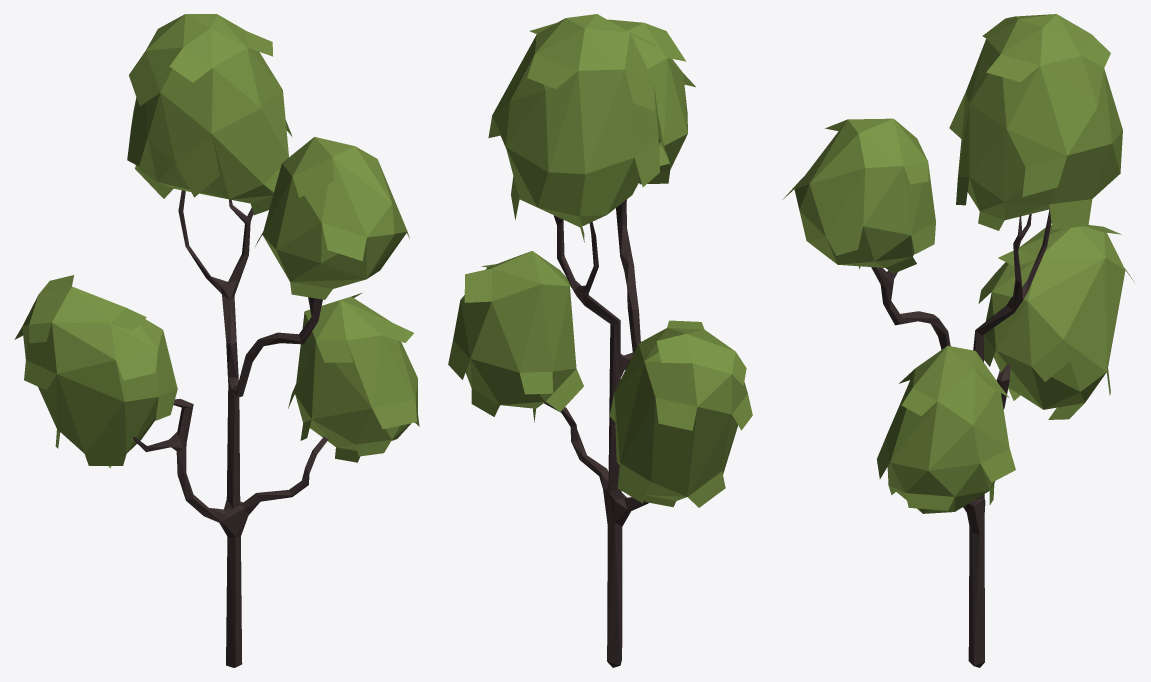
File: Tree_Forest_Green_04.fbx
3 renders of one model, left to right at view 1: azimuth 30°, elevation 25°; view 2: azimuth 150°, elevation 25°; view 3: azimuth 270°, elevation 25°, orthographic. The views are drawn at different scales.
Visible parts, largest first — view 1: Tree_Forest_Green_04; view 2: Tree_Forest_Green_04; view 3: Tree_Forest_Green_04.
Part boxes in pixels (left/top/right/bottom): Tree_Forest_Green_04: left=14, top=14, right=419, bottom=667; Tree_Forest_Green_04: left=448, top=14, right=752, bottom=667; Tree_Forest_Green_04: left=782, top=14, right=1134, bottom=667.
Bounding box in the file's own units: 426 × 790 × 392.
